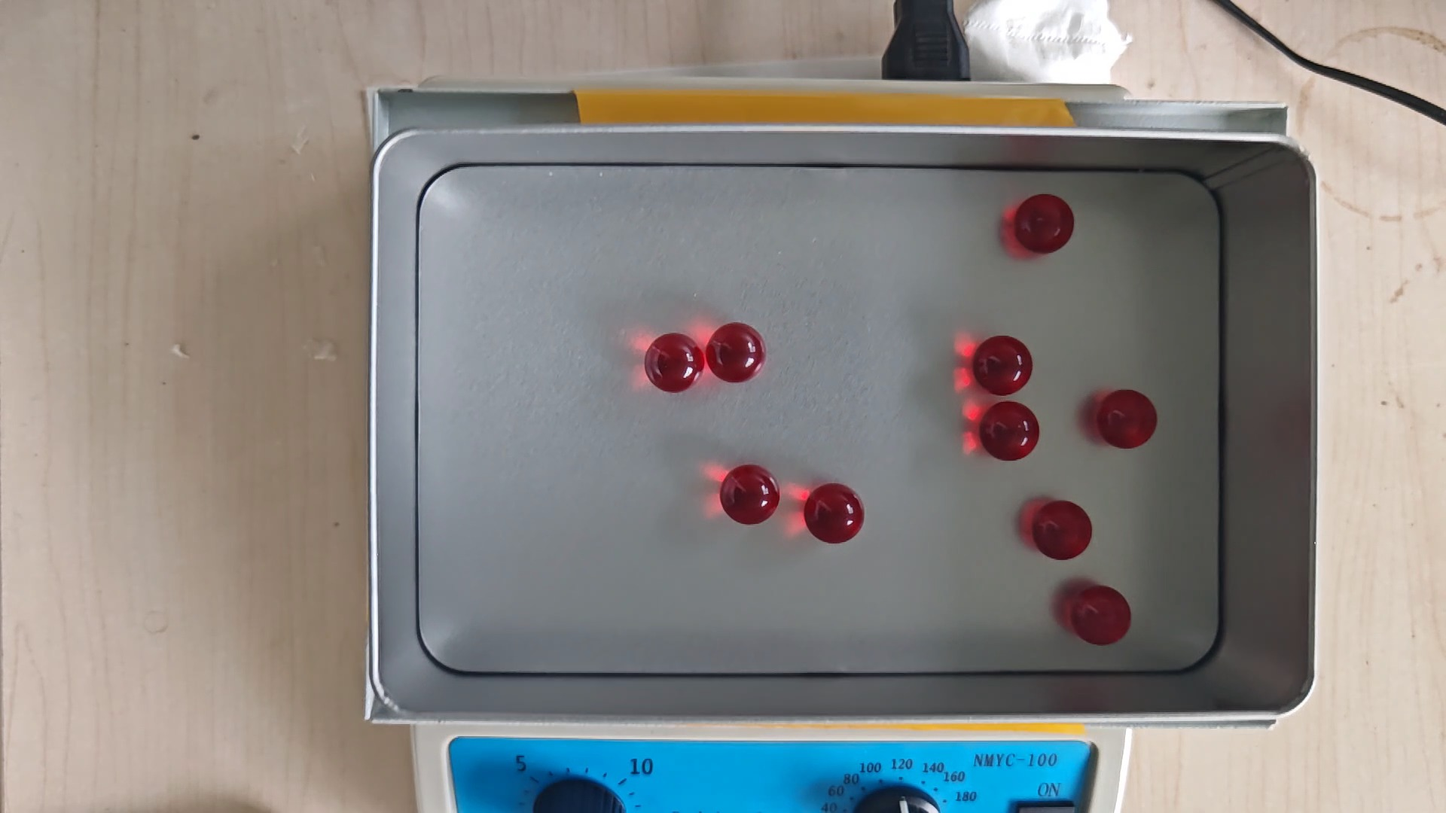ball: (1032, 499, 1093, 561), (1015, 192, 1075, 255), (1071, 585, 1132, 646), (805, 482, 865, 544), (980, 400, 1040, 462), (1098, 388, 1157, 451), (720, 463, 779, 526), (973, 334, 1032, 396), (645, 332, 704, 393), (708, 322, 766, 384)
container: (416, 166, 1221, 674)
